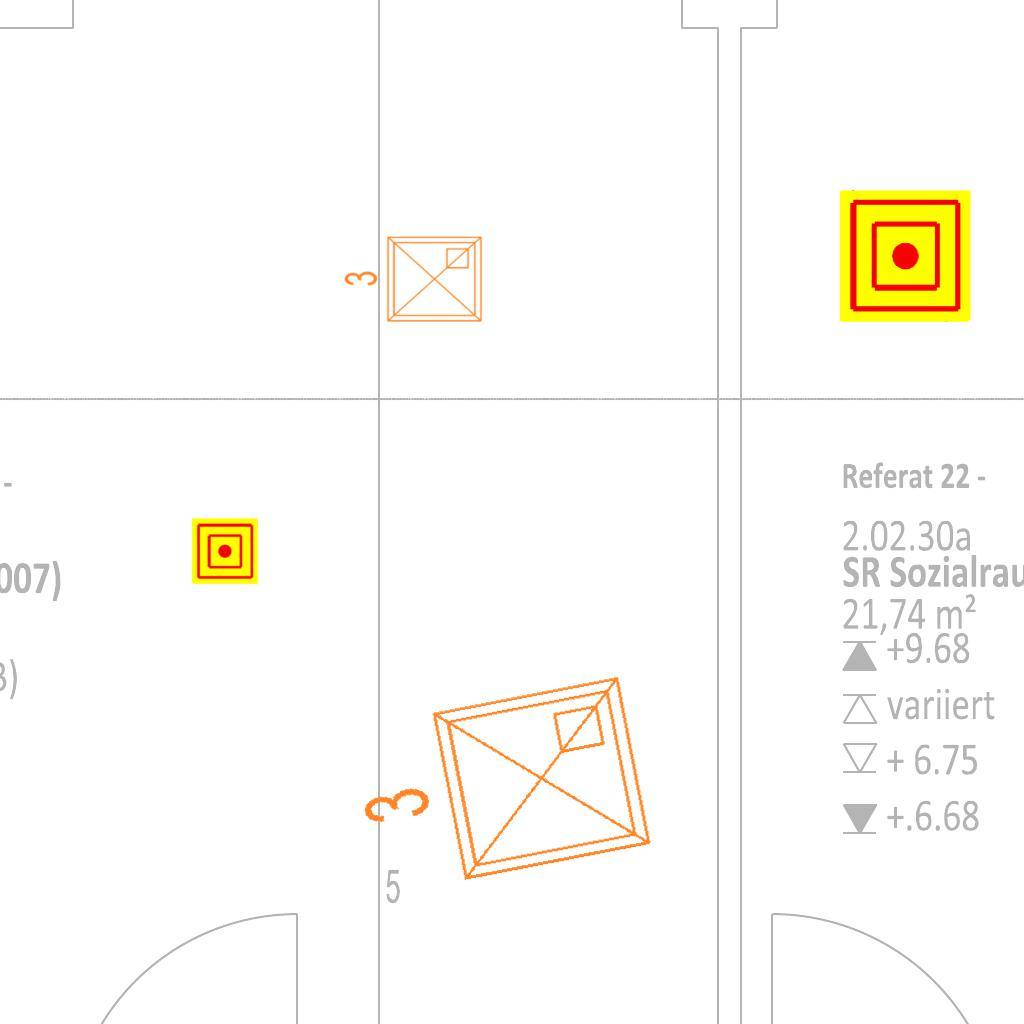Einbaudownlights_LED_Konferenzraeume: (334, 659, 670, 921), (339, 229, 489, 333)
NAM-Nichtautomatischer_Melder: (839, 190, 971, 322), (192, 518, 258, 584)
